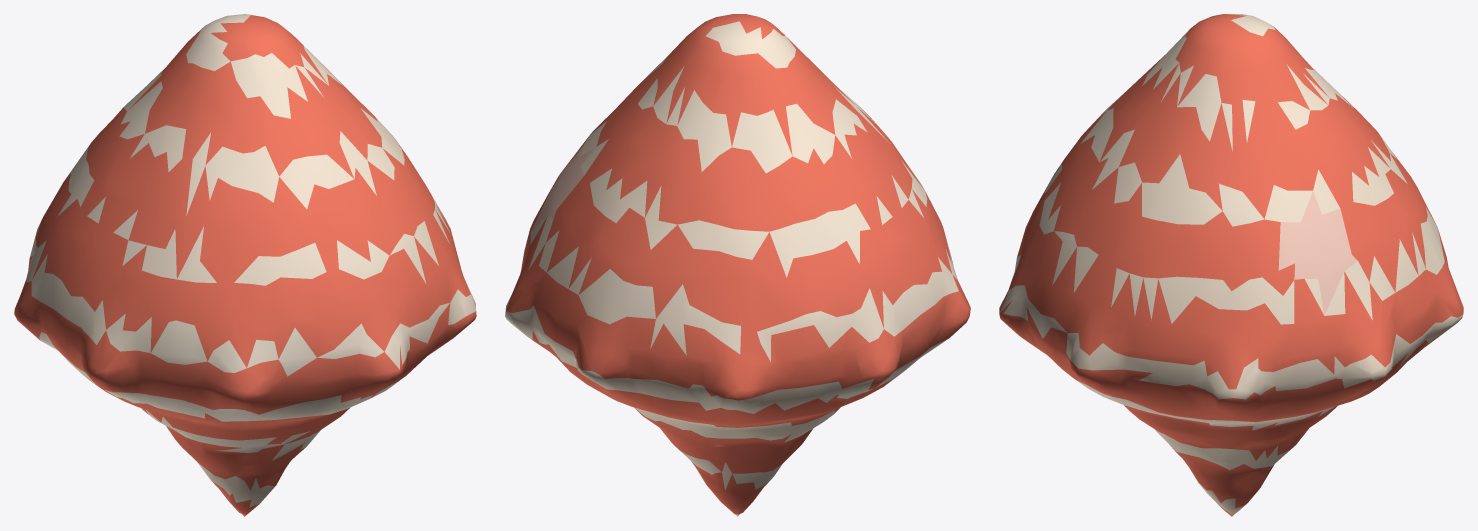
The model's file is shore_player_shell.glb.
The picture shows the model from 3 angles, left to right: view 1: azimuth 30°, elevation 25°; view 2: azimuth 150°, elevation 25°; view 3: azimuth 270°, elevation 25°; orthographic projection.
Parts seen in each view (by area): view 1: shore_player_shell; view 2: shore_player_shell; view 3: shore_player_shell.
Boxes of the visible parts, box(x1,y1,x2,y2) form: shore_player_shell: box(14, 14, 476, 516); shore_player_shell: box(505, 14, 970, 516); shore_player_shell: box(999, 14, 1463, 516).
Size of the model in its own units: 1.22 by 1.45 by 1.23.
